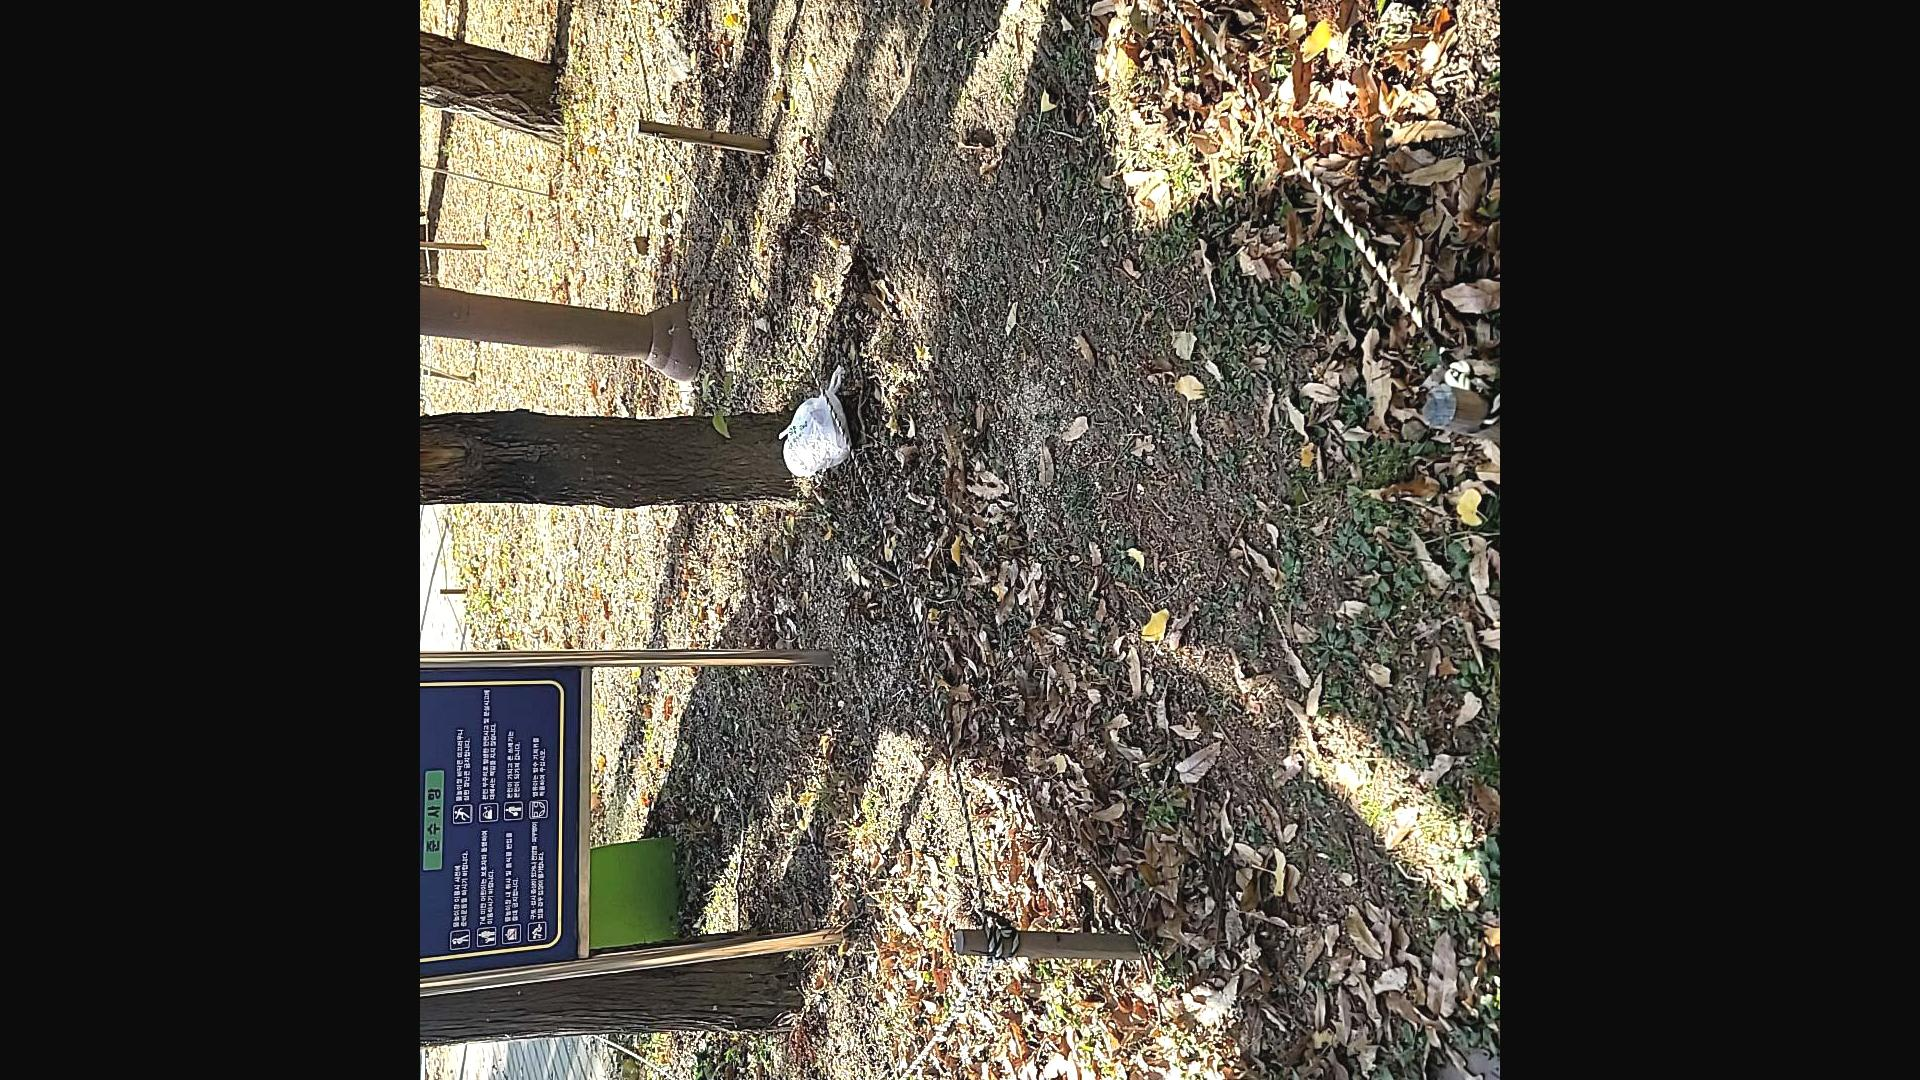white_bag: (774, 361, 858, 483)
